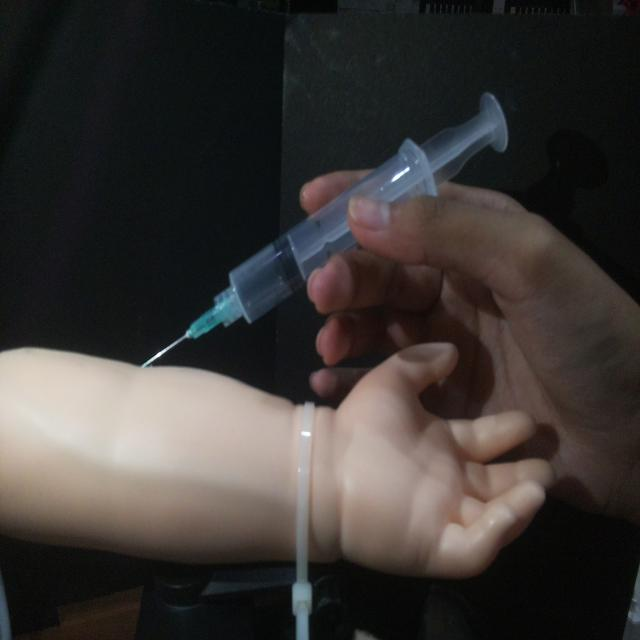28deg: (136, 86, 512, 371)
